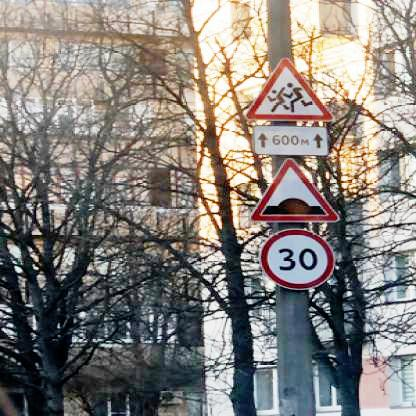Speed Limit -30-: (258, 227, 338, 292)
